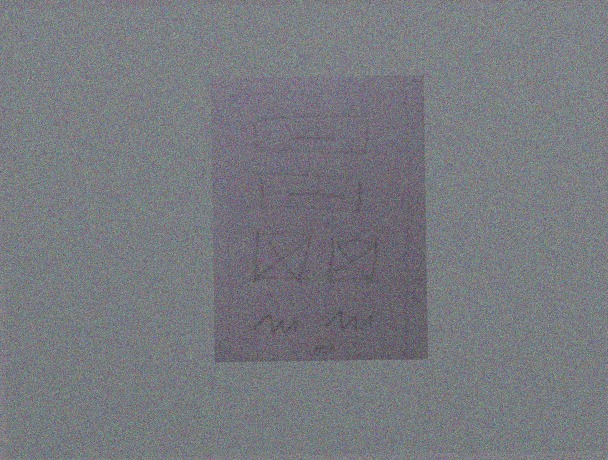button: (249, 108, 378, 162), (250, 167, 369, 219)
image: (249, 226, 317, 290), (324, 234, 385, 288)
switch: (308, 343, 338, 356)
text: (320, 306, 378, 337), (248, 310, 307, 340)
